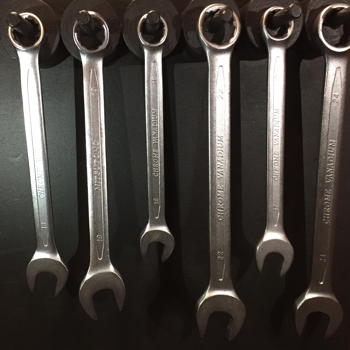bottom: (192, 286, 246, 344), (291, 283, 342, 342), (75, 267, 127, 324), (22, 253, 70, 298), (253, 231, 295, 280), (136, 224, 176, 266)
top: (194, 0, 242, 57), (311, 1, 350, 58), (70, 9, 110, 57), (258, 3, 300, 47), (4, 9, 46, 52), (134, 8, 170, 50)
